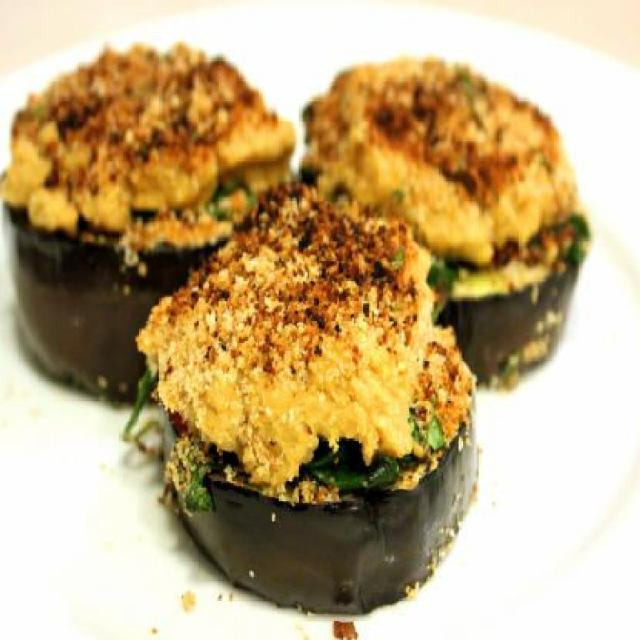eggplant: (12, 26, 608, 616)
hummus: (20, 39, 578, 466)
